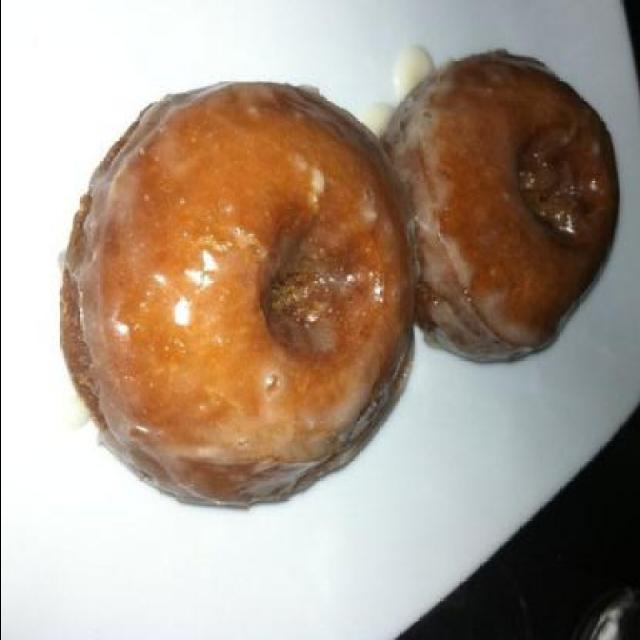Donuts: (54, 52, 628, 543)
